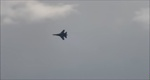maybay_muctieu: (53, 29, 68, 42)
